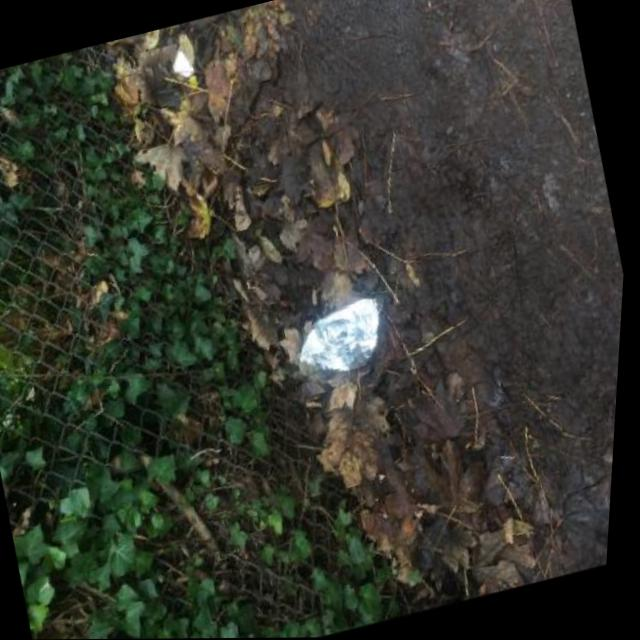metal: (286, 294, 392, 385)
